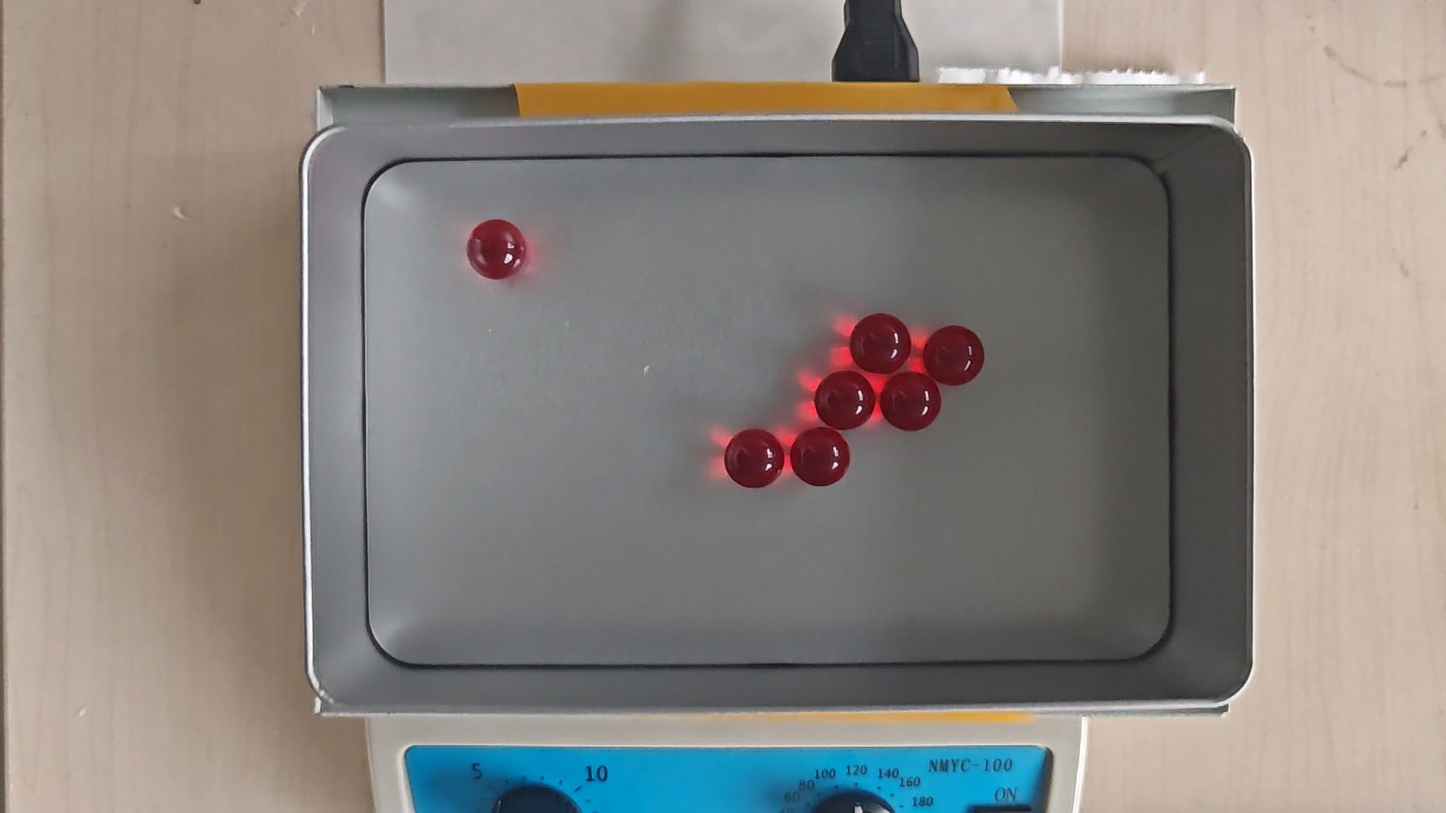ball: (852, 311, 910, 375), (884, 371, 940, 434), (725, 428, 784, 487), (816, 370, 875, 429), (469, 218, 526, 279), (792, 428, 850, 487), (926, 327, 985, 383)
container: (361, 156, 1172, 662)
